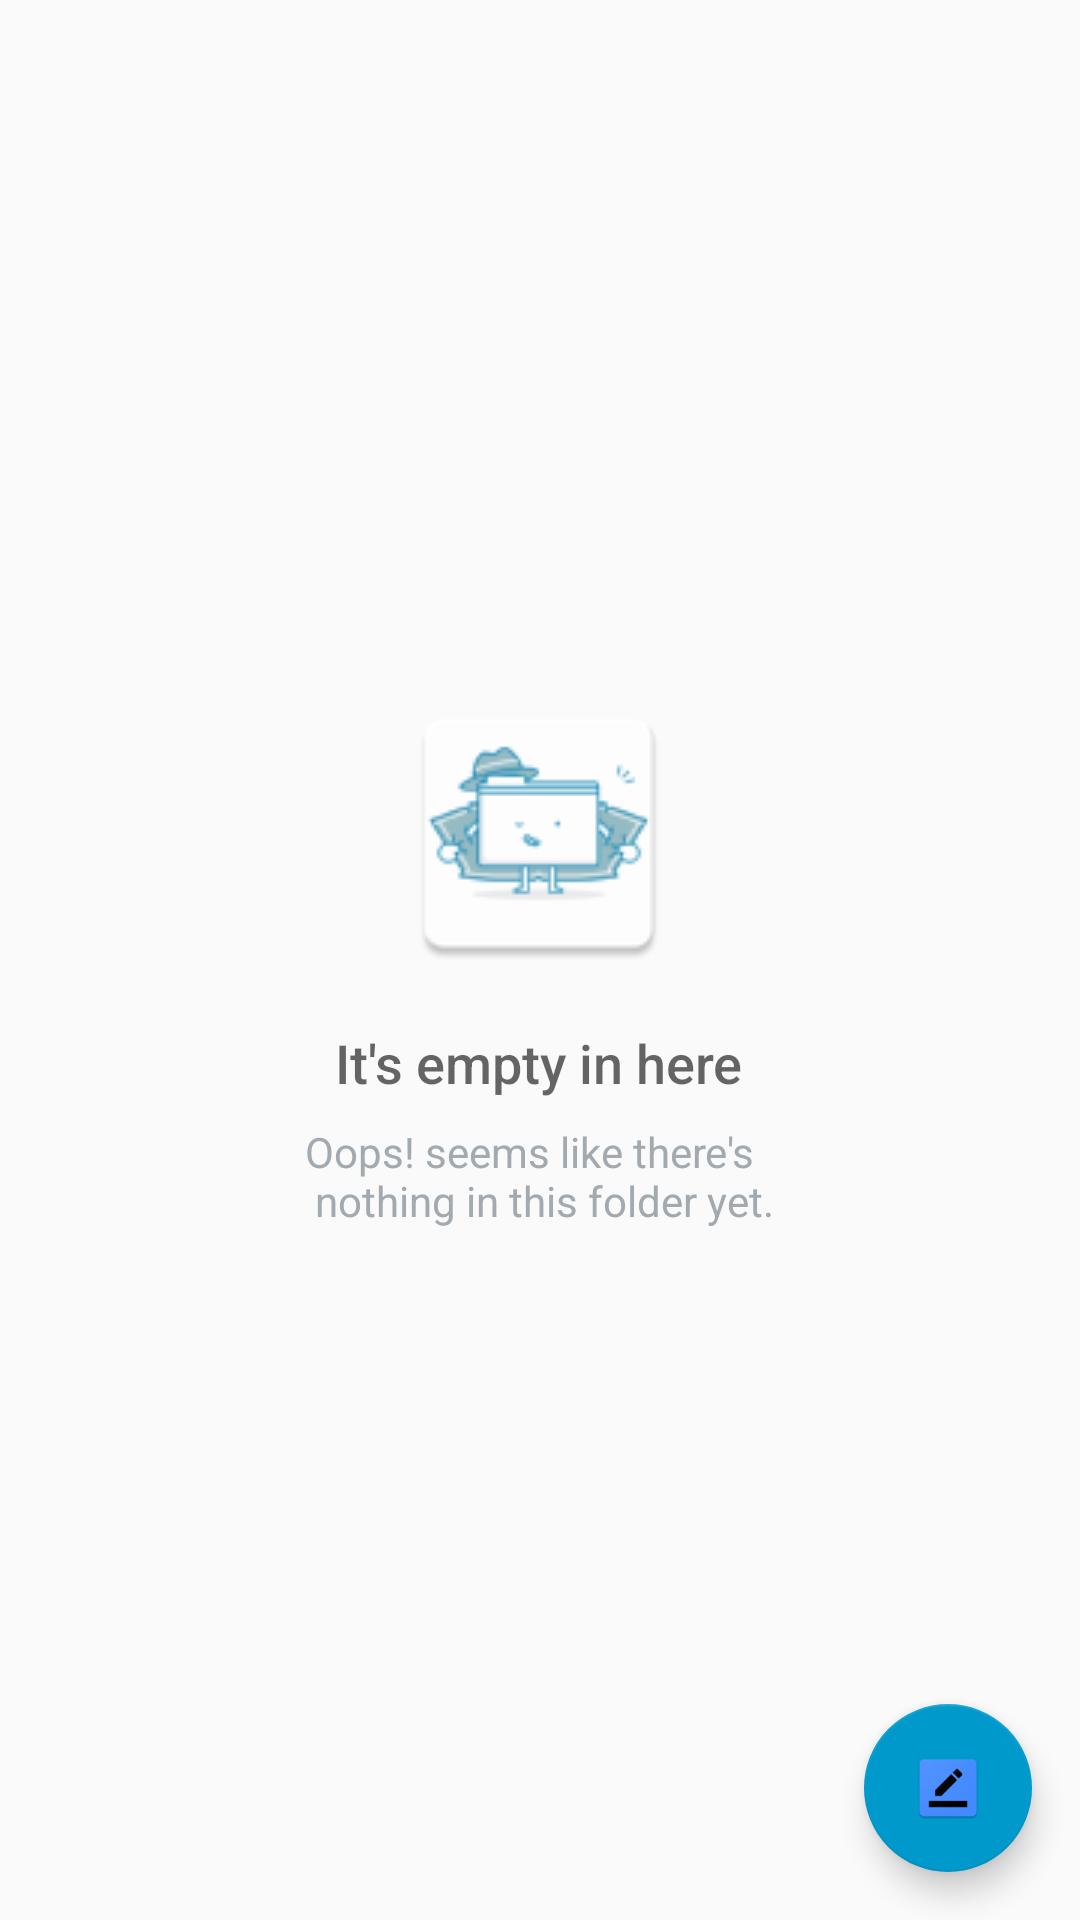

Point at icon controls on the screen. Image size 1080x1920, points as [x,y].
Empty Database: [539,850]
